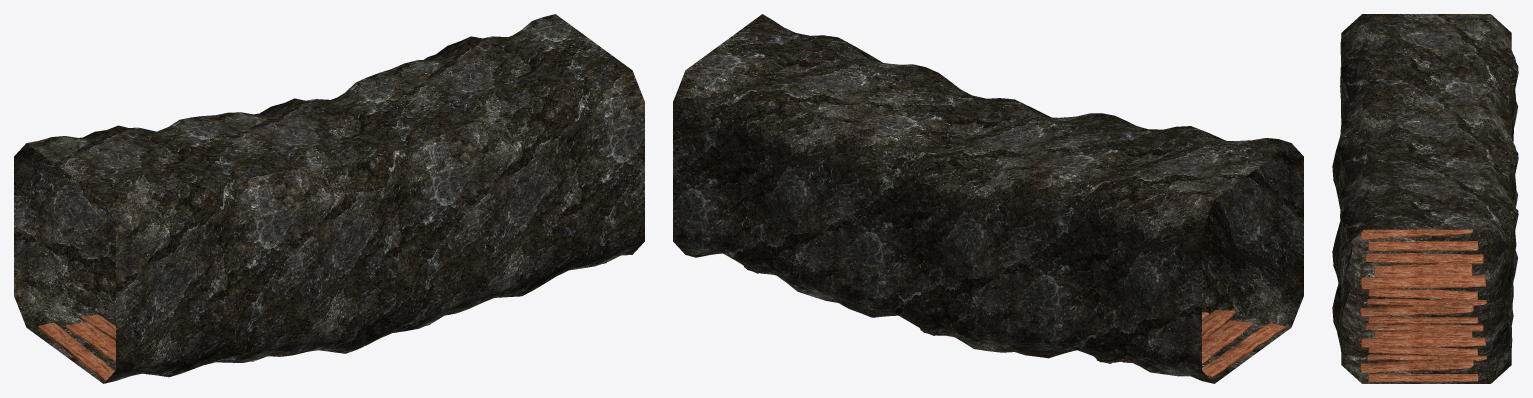
File: Cave_048.fbx
3 views of the same model, side by side, from view 1: azimuth 30°, elevation 25°; view 2: azimuth 150°, elevation 25°; view 3: azimuth 270°, elevation 25° (orthographic). The views are drawn at different scales.
Visible parts, largest first — view 1: Cave.048; view 2: Cave.048; view 3: Cave.048.
Part boxes in pixels (bbox=[...]): Cave.048: bbox=[14, 14, 644, 383]; Cave.048: bbox=[673, 14, 1303, 383]; Cave.048: bbox=[1332, 14, 1518, 383].
Size of the model in its own units: 900 by 348 by 328.
